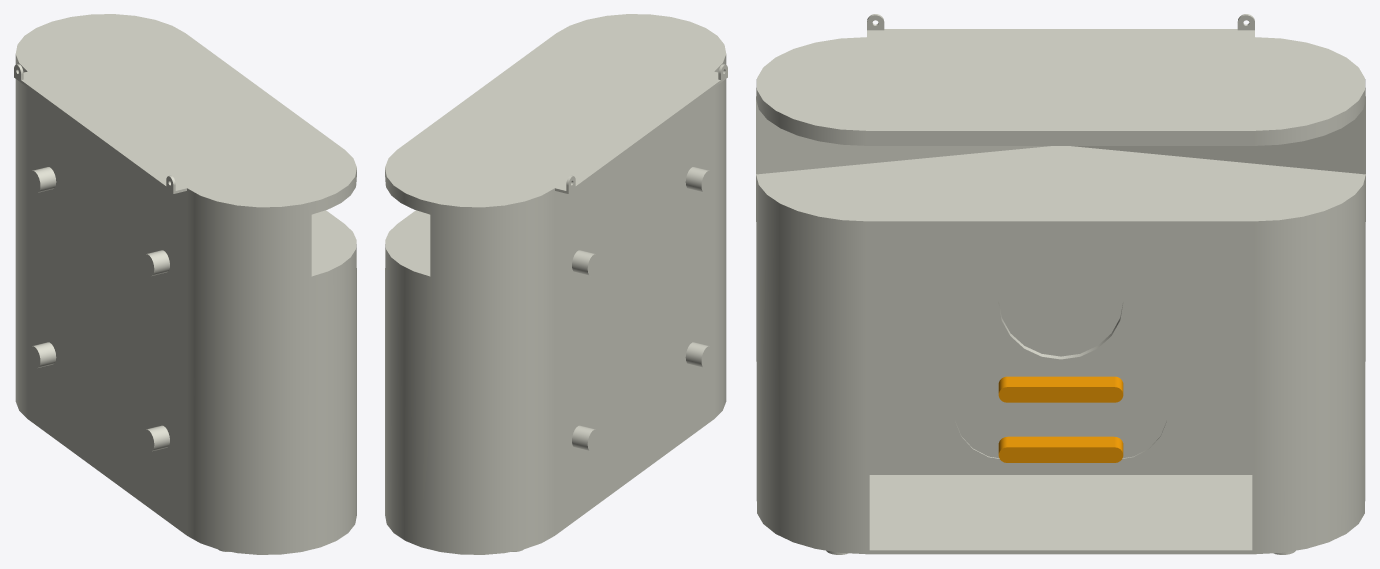
The model's file is charging.dae.
3 renders of one model, left to right at view 1: azimuth 30°, elevation 25°; view 2: azimuth 150°, elevation 25°; view 3: azimuth 270°, elevation 25°, orthographic. The views are drawn at different scales.
Parts seen in each view (by area): view 1: FBXASC232FBXASC190FBXASC147FBXASC229FBXASC133FBXASC1651; view 2: FBXASC232FBXASC190FBXASC147FBXASC229FBXASC133FBXASC1651; view 3: FBXASC232FBXASC190FBXASC147FBXASC229FBXASC133FBXASC1651.
Part boxes in pixels (box(x1,y1,x2,y2)): FBXASC232FBXASC190FBXASC147FBXASC229FBXASC133FBXASC1651: box(14, 14, 356, 554); FBXASC232FBXASC190FBXASC147FBXASC229FBXASC133FBXASC1651: box(385, 14, 727, 554); FBXASC232FBXASC190FBXASC147FBXASC229FBXASC133FBXASC1651: box(756, 14, 1365, 554).
Size of the model in its own units: 7.6 by 14.13 by 17.32.
